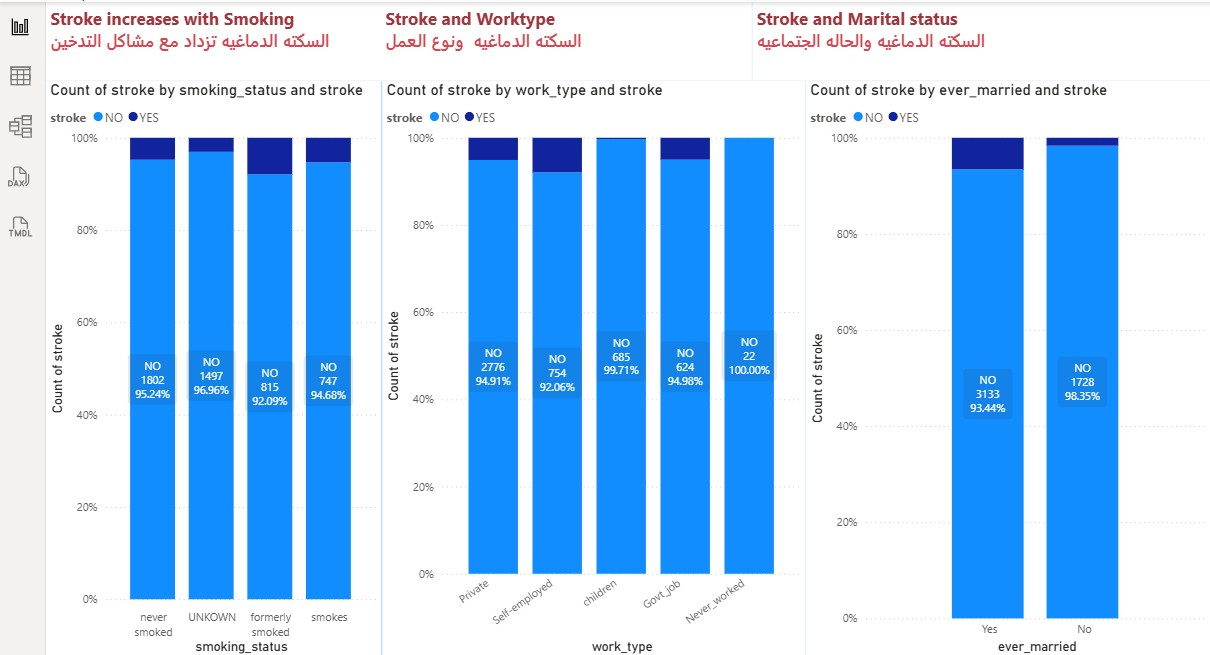

Layout of this report page (visuals, bound fields, positions):
{"tool":"powerbi","page":{"name":"Page 2","canvas":[1280,720],"ordinal":1},"visuals":[{"type":"hundredPercentStackedColumnChart","fields":{"Y":["CountNonNull(heart_disease.stroke)"],"Series":["heart_disease.stroke"],"Category":["heart_disease.smoking_status"]},"box":[0,86.4,367.8,634],"z":0},{"type":"textbox","box":[0,0,367.8,86.4],"z":1000},{"type":"hundredPercentStackedColumnChart","fields":{"Y":["CountNonNull(heart_disease.stroke)"],"Series":["heart_disease.stroke"],"Category":["heart_disease.work_type"]},"box":[369.1,86.4,465.2,634],"z":2000},{"type":"textbox","box":[367.8,0,407.5,86.4],"z":3000},{"type":"hundredPercentStackedColumnChart","fields":{"Y":["CountNonNull(heart_disease.stroke)"],"Series":["heart_disease.stroke"],"Category":["heart_disease.ever_married"]},"box":[834.3,86.4,446,634],"z":4000},{"type":"textbox","box":[775.3,0,505,86.4],"z":5000}]}

Visuals, with their boxes on the page's 1280x720 design canvas (x1, y1, x2, y2). These are canvas units, not pixel positions in the 1210x655 screenshot, which may show the page scaled, cropped or inside an application window:
hundredPercentStackedColumnChart - CountNonNull(heart_disease.stroke) x heart_disease.stroke: 0,86,368,720
textbox: 0,0,368,86
hundredPercentStackedColumnChart - CountNonNull(heart_disease.stroke) x heart_disease.stroke: 369,86,834,720
textbox: 368,0,775,86
hundredPercentStackedColumnChart - CountNonNull(heart_disease.stroke) x heart_disease.stroke: 834,86,1280,720
textbox: 775,0,1280,86
